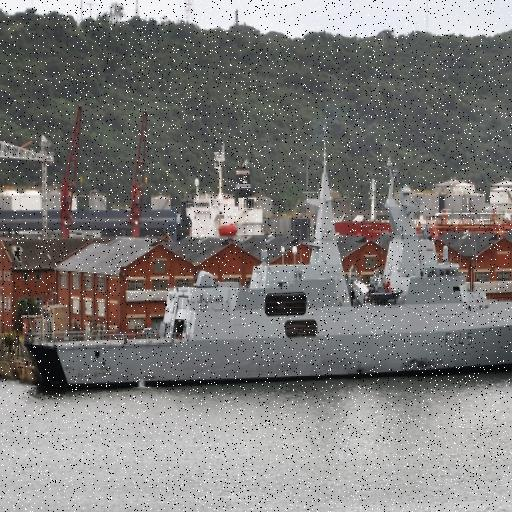Fragata: (20, 116, 512, 396)
